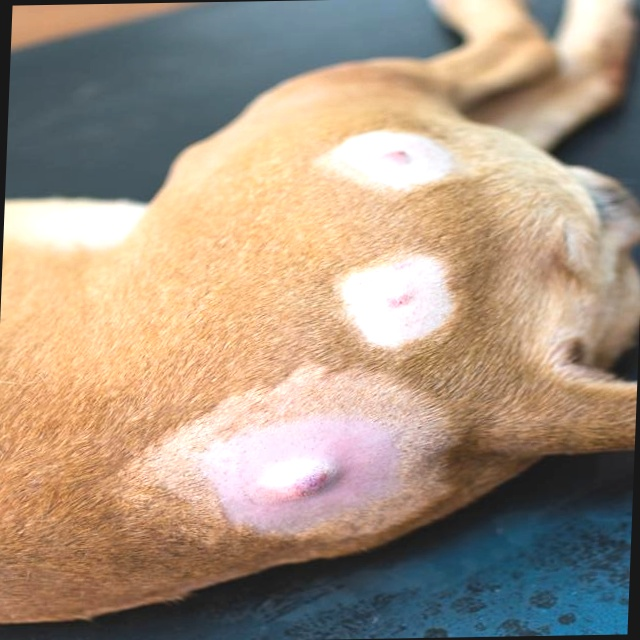lump_and_bump: (256, 461, 340, 503), (377, 141, 410, 171), (388, 286, 414, 312)
